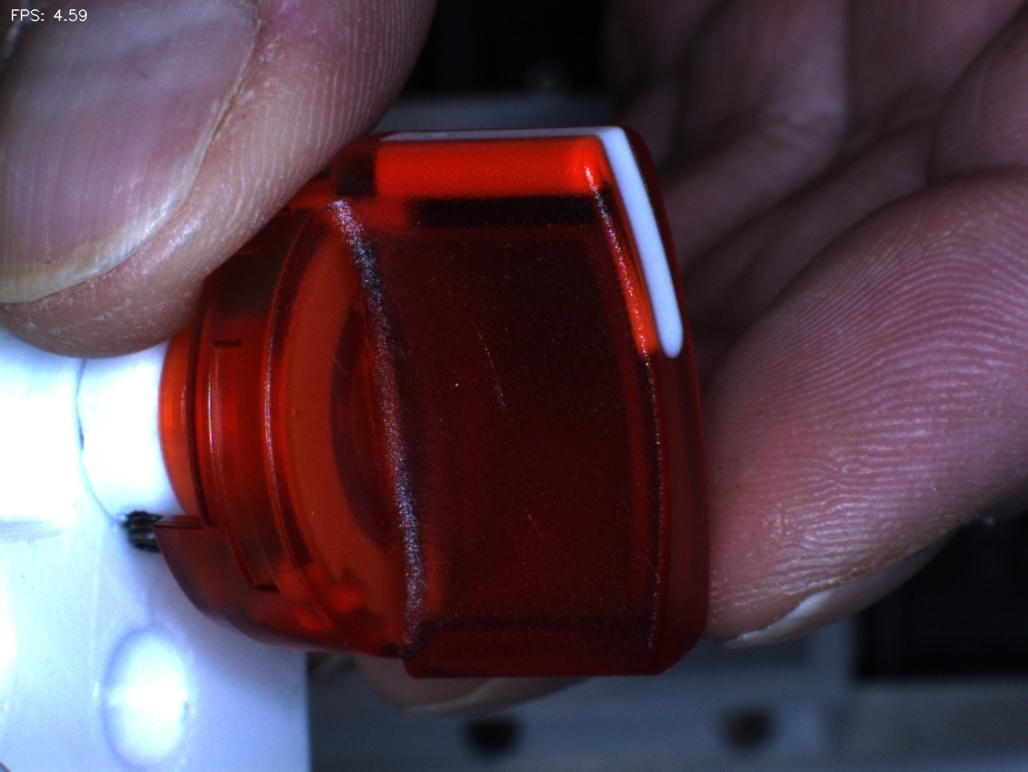Givrage: (432, 292, 531, 423)
